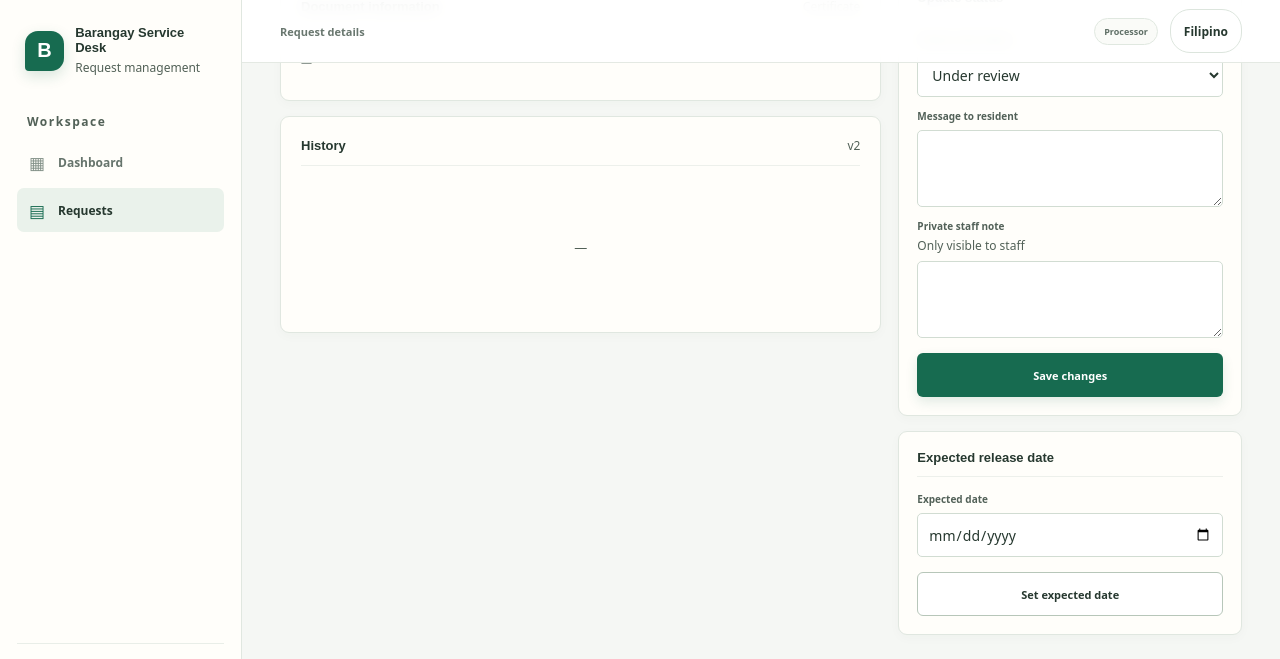
Test: staff request concurrency recovery › refreshes after a stale-version conflict and retains If-Match on the attempted mutation
(page scrolled)
Click the button "Save changes": (1070, 375) [917,353,1223,397]
(page scrolled)
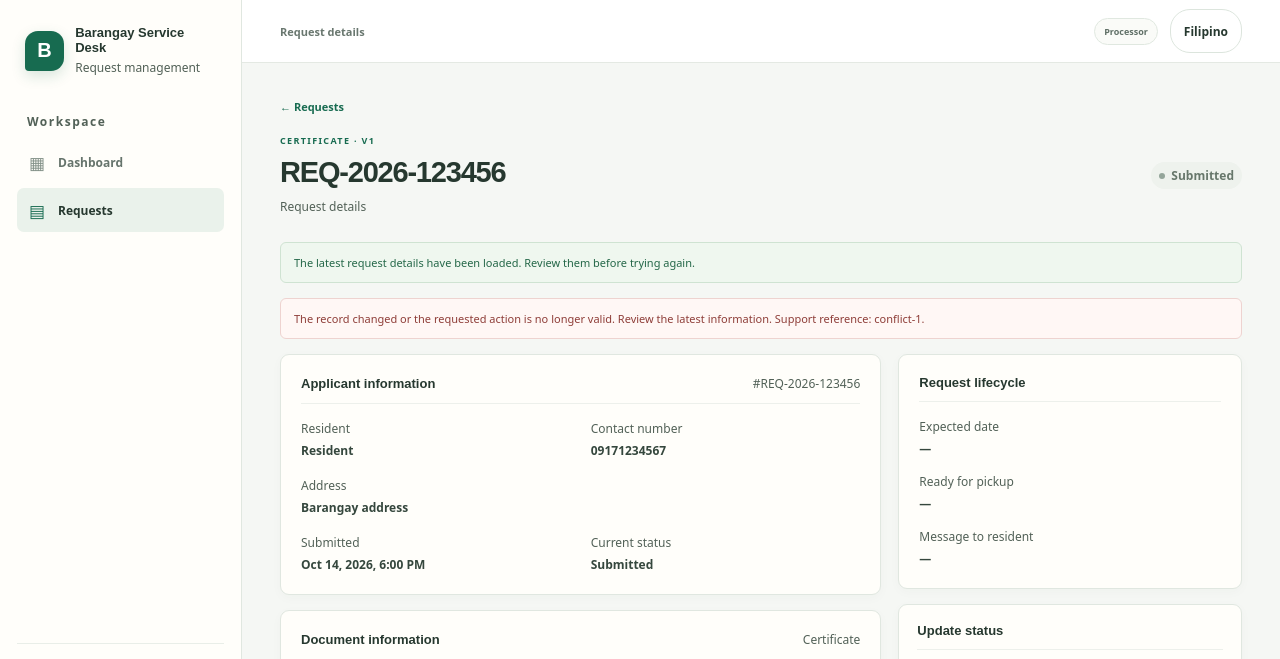
Check: the text "record changed or the requested action is no longer valid" is shown, box [294,311,925,326]
